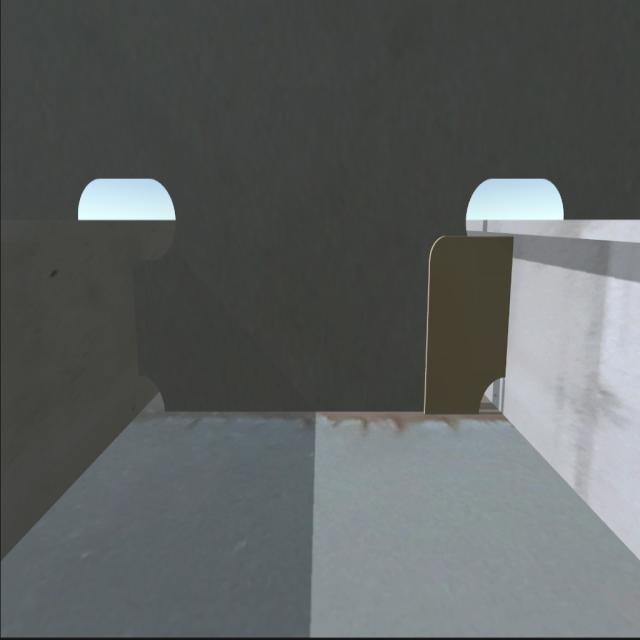fillet_hole: (475, 371, 510, 422), (136, 372, 167, 419)
fillet_yong_jeop_jang: (160, 391, 480, 422)
longi_yong_jeop_jang: (500, 232, 517, 392), (126, 259, 145, 372)
plate_CP05: (427, 231, 507, 414)
